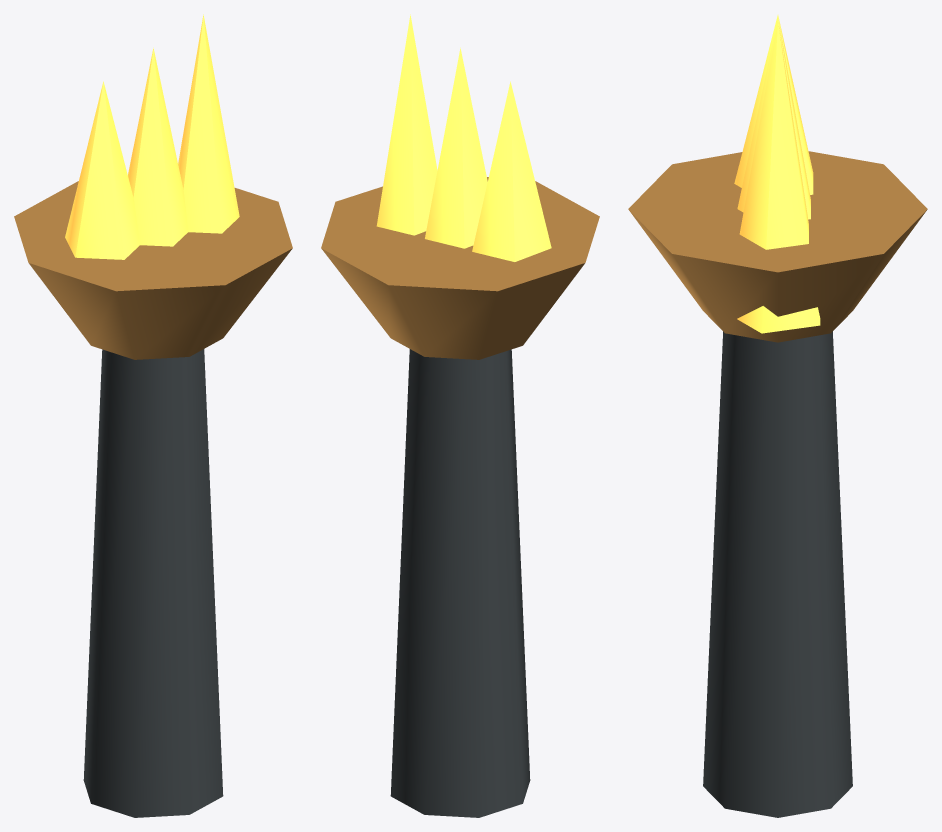
File: torch.glb
3 views of the same model, side by side, from view 1: azimuth 30°, elevation 25°; view 2: azimuth 150°, elevation 25°; view 3: azimuth 270°, elevation 25° (orthographic). The views are drawn at different scales.
Parts seen in each view (by area): view 1: torch; view 2: torch; view 3: torch.
Boxes of the visible parts, x1,y1,x2,y2 form: torch: (14, 14, 292, 817); torch: (321, 14, 599, 817); torch: (628, 15, 927, 817).
Bounding box in the file's own units: 0.8 × 2.33 × 0.8.
